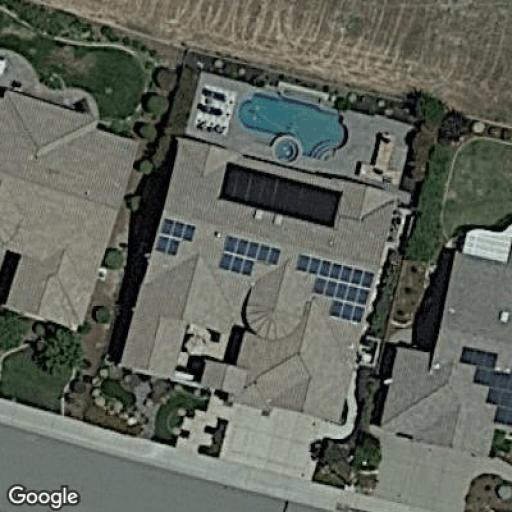solar-panel: (214, 160, 344, 230), (293, 251, 377, 325), (457, 344, 512, 426), (215, 232, 283, 280), (153, 215, 198, 257)
